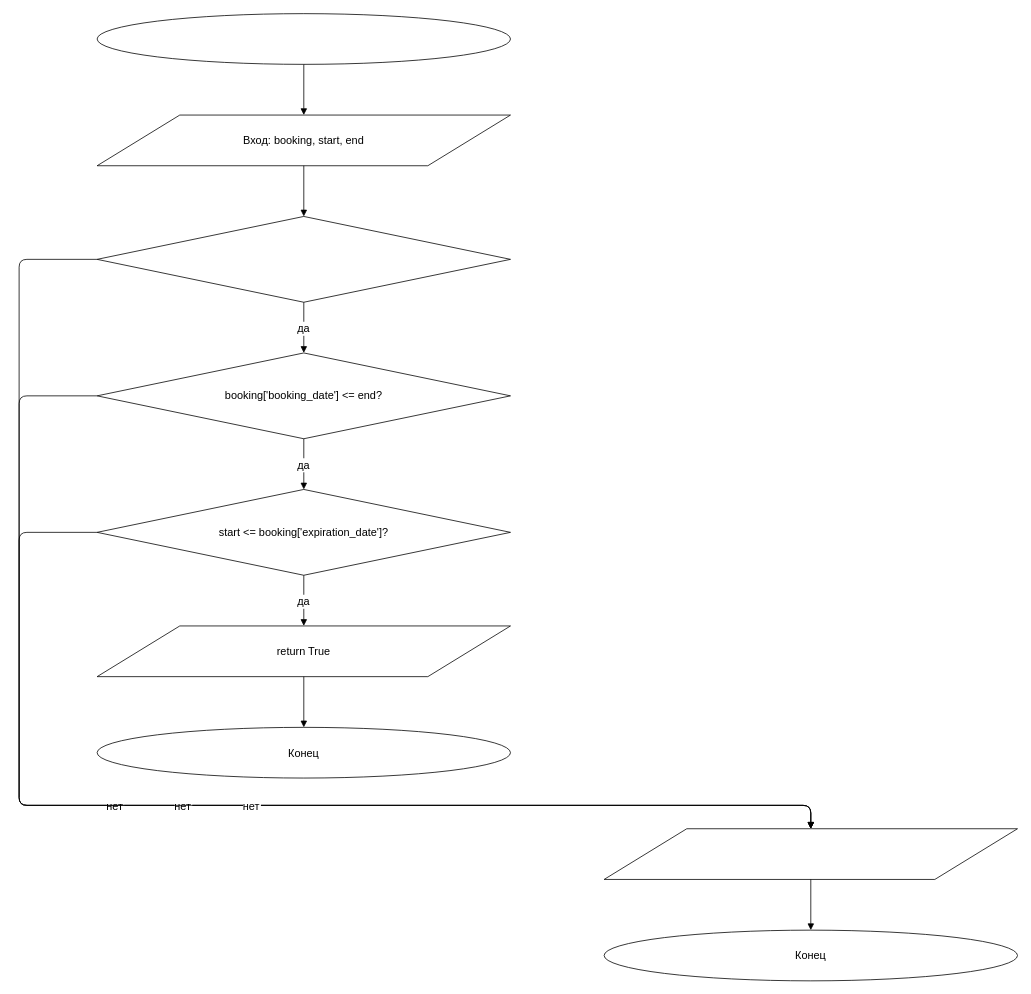
Image size: 1031x994. Some labels were removed from this diagram. The centre of each missing label's shape, as x and y in pixels:
booking['status'] == 'active'?: [303,259]
return False: [810,853]
Начало: active_booking: [303,38]
